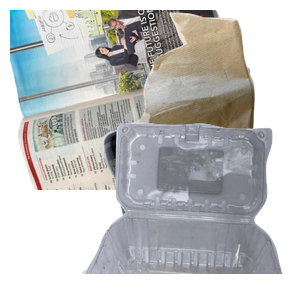glass: (37, 120, 231, 300)
paper: (10, 10, 250, 190)
plastic: (80, 120, 300, 300)
trash: (114, 10, 300, 189)
